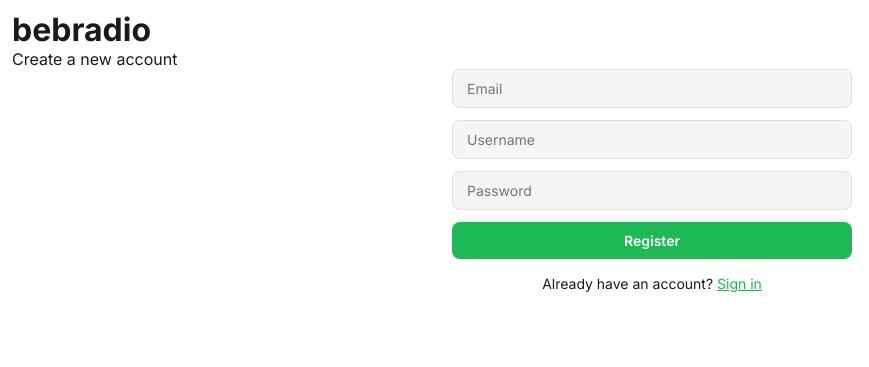
Test: Register › shows error on failure
Type "dup@test.com" into the field with placeholder "Email" at x=652, y=88, box [452,69,852,108]
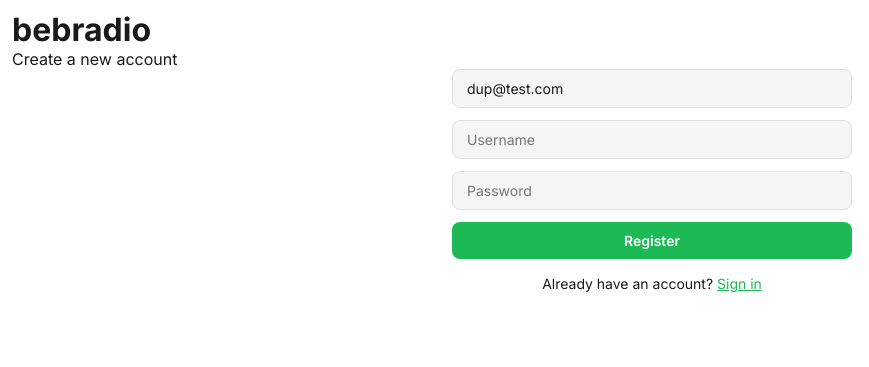
Type "Bob" into the field with placeholder "Username" at x=652, y=140, box [452,120,852,159]
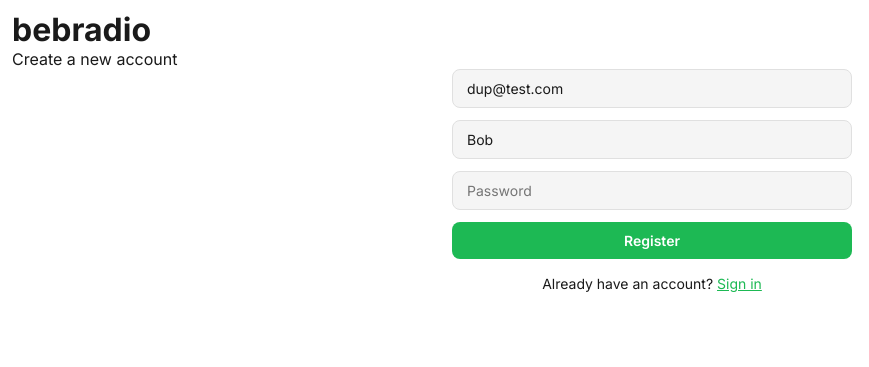
Type "pass" into the password field with placeholder "Password" at x=652, y=190, box [452,171,852,210]
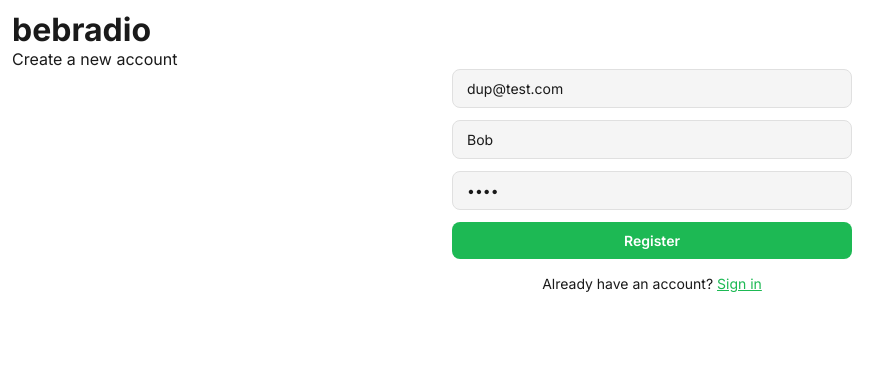
Click the button "Register" at x=652, y=240, box [452,222,852,259]
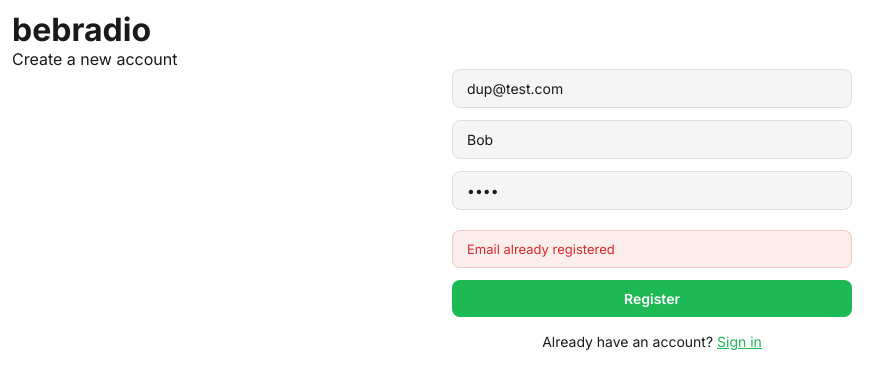
Now the text "Email already registered" is shown, box [452,230,852,268]
